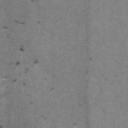oxide scale of temperature system: (16, 61, 29, 73), (12, 78, 26, 87), (14, 19, 26, 25), (18, 46, 25, 52), (2, 25, 9, 30), (34, 59, 39, 64), (89, 56, 93, 62), (36, 20, 41, 24), (50, 87, 54, 91), (30, 0, 35, 3)
